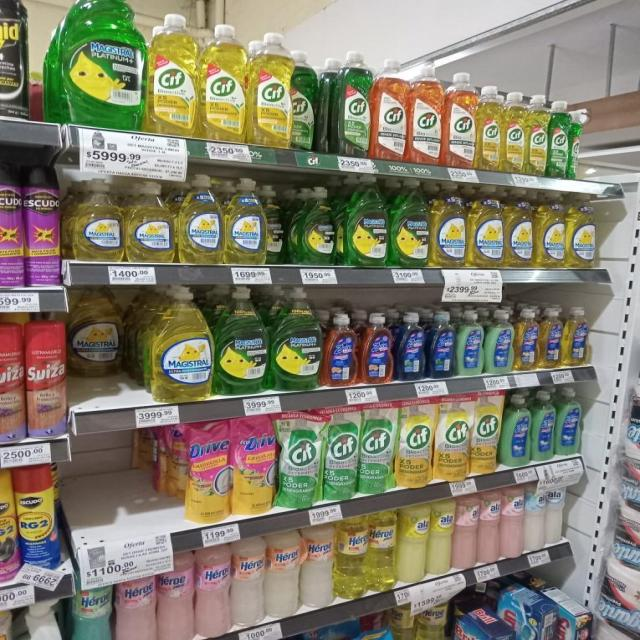ala_crem_blanco: (524, 480, 545, 552), (546, 477, 565, 545)
cif_conc_bot_amarilla: (148, 12, 198, 136), (201, 22, 247, 142), (250, 33, 290, 148), (477, 85, 502, 172), (503, 90, 525, 174), (526, 95, 548, 176)
cif_conc_botella_roja: (372, 57, 407, 162), (409, 66, 443, 164), (444, 71, 476, 168)
cif_conc_botella_verde: (334, 50, 371, 158), (290, 50, 318, 151), (548, 100, 570, 179), (569, 104, 583, 180)
cif_conc_sachet_amarillo: (395, 398, 432, 488), (433, 395, 468, 481), (470, 392, 499, 476)
cif_conc_sachet_verde: (277, 410, 320, 508), (358, 401, 394, 494), (323, 406, 357, 500)
drive: (231, 414, 275, 516)
heroe: (195, 542, 230, 638), (157, 550, 194, 640), (114, 563, 156, 640), (265, 529, 300, 618), (231, 536, 264, 627), (301, 522, 333, 608), (68, 580, 113, 640), (334, 516, 366, 600), (366, 509, 396, 593), (415, 598, 447, 640)
magistral_con_amarillo: (148, 285, 213, 401), (68, 285, 125, 378), (71, 177, 123, 262), (178, 173, 222, 264), (126, 179, 174, 262), (224, 177, 266, 265), (468, 186, 504, 268), (432, 184, 466, 268), (566, 194, 598, 268), (535, 191, 565, 269), (505, 189, 533, 268)
zorro: (324, 312, 358, 387), (361, 312, 393, 384), (501, 393, 530, 467), (396, 310, 426, 381), (485, 308, 514, 374), (456, 308, 484, 376), (556, 386, 582, 457), (428, 310, 455, 378), (531, 389, 555, 462), (564, 306, 590, 367), (515, 307, 539, 371), (540, 307, 562, 369)
